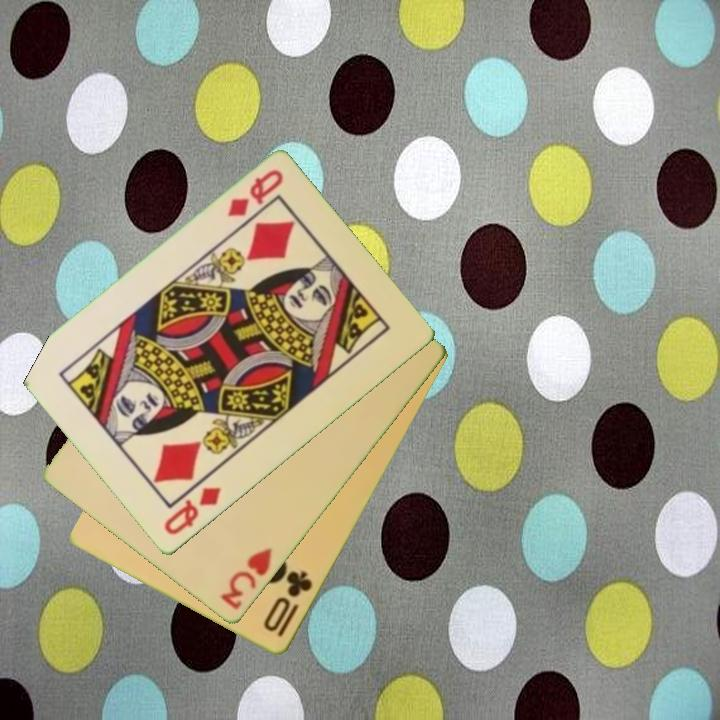10c: (260, 567, 316, 641)
3h: (217, 544, 276, 613)
Qd: (160, 484, 225, 539), (223, 166, 287, 221)
